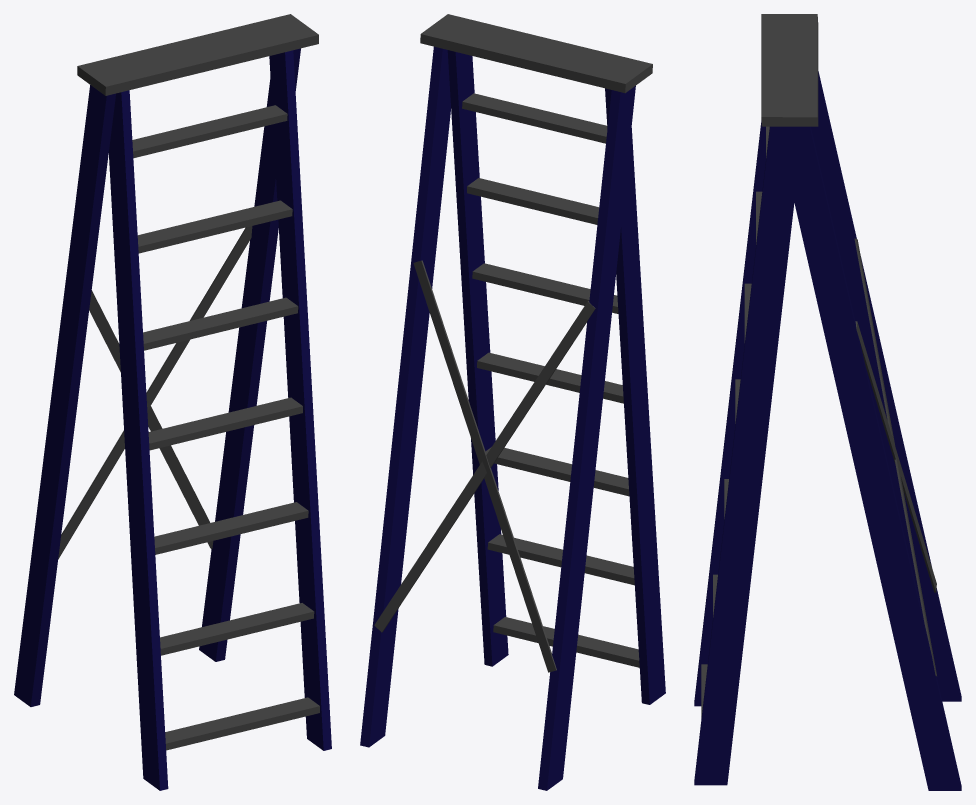
File: Ladder.FBX
3 views of the same model, side by side, from view 1: azimuth 30°, elevation 25°; view 2: azimuth 150°, elevation 25°; view 3: azimuth 270°, elevation 25° (orthographic). The views are drawn at different scales.
Parts seen in each view (by area): view 1: Ladderm; view 2: Ladderm; view 3: Ladderm.
Part boxes in pixels (<box>): Ladderm: <box>14,14,331,790</box>; Ladderm: <box>360,14,665,790</box>; Ladderm: <box>694,14,961,790</box>.
Bounding box in the file's own units: 65.34 × 200 × 71.61.
